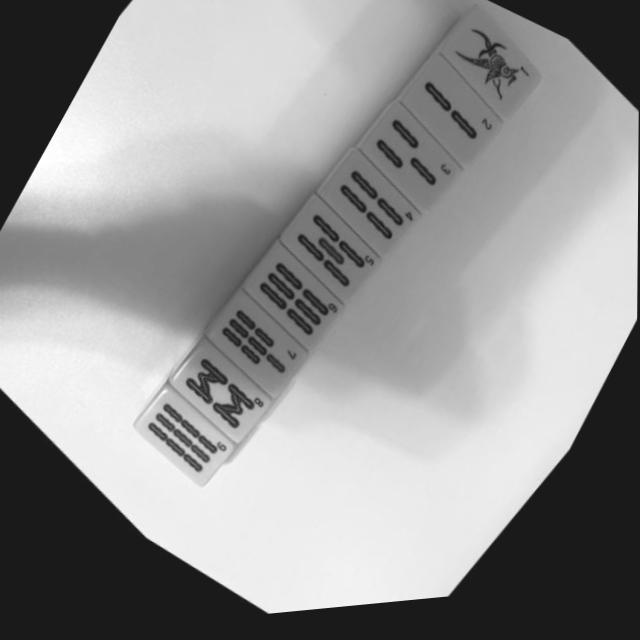sb1: (420, 10, 563, 152)
sb2: (379, 54, 526, 202)
sb3: (338, 101, 481, 246)
sb4: (296, 147, 443, 295)
sb5: (260, 198, 399, 337)
sb6: (224, 243, 361, 381)
sb7: (184, 285, 326, 429)
sb8: (149, 335, 288, 474)
sb9: (113, 381, 249, 516)
